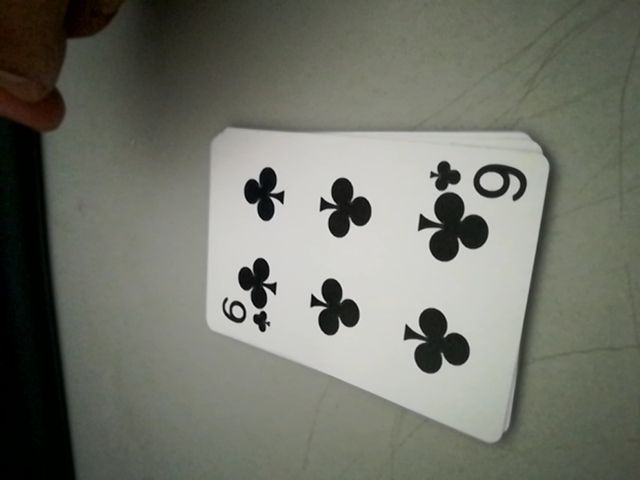mh 6: (431, 158, 531, 200), (215, 300, 271, 339)
